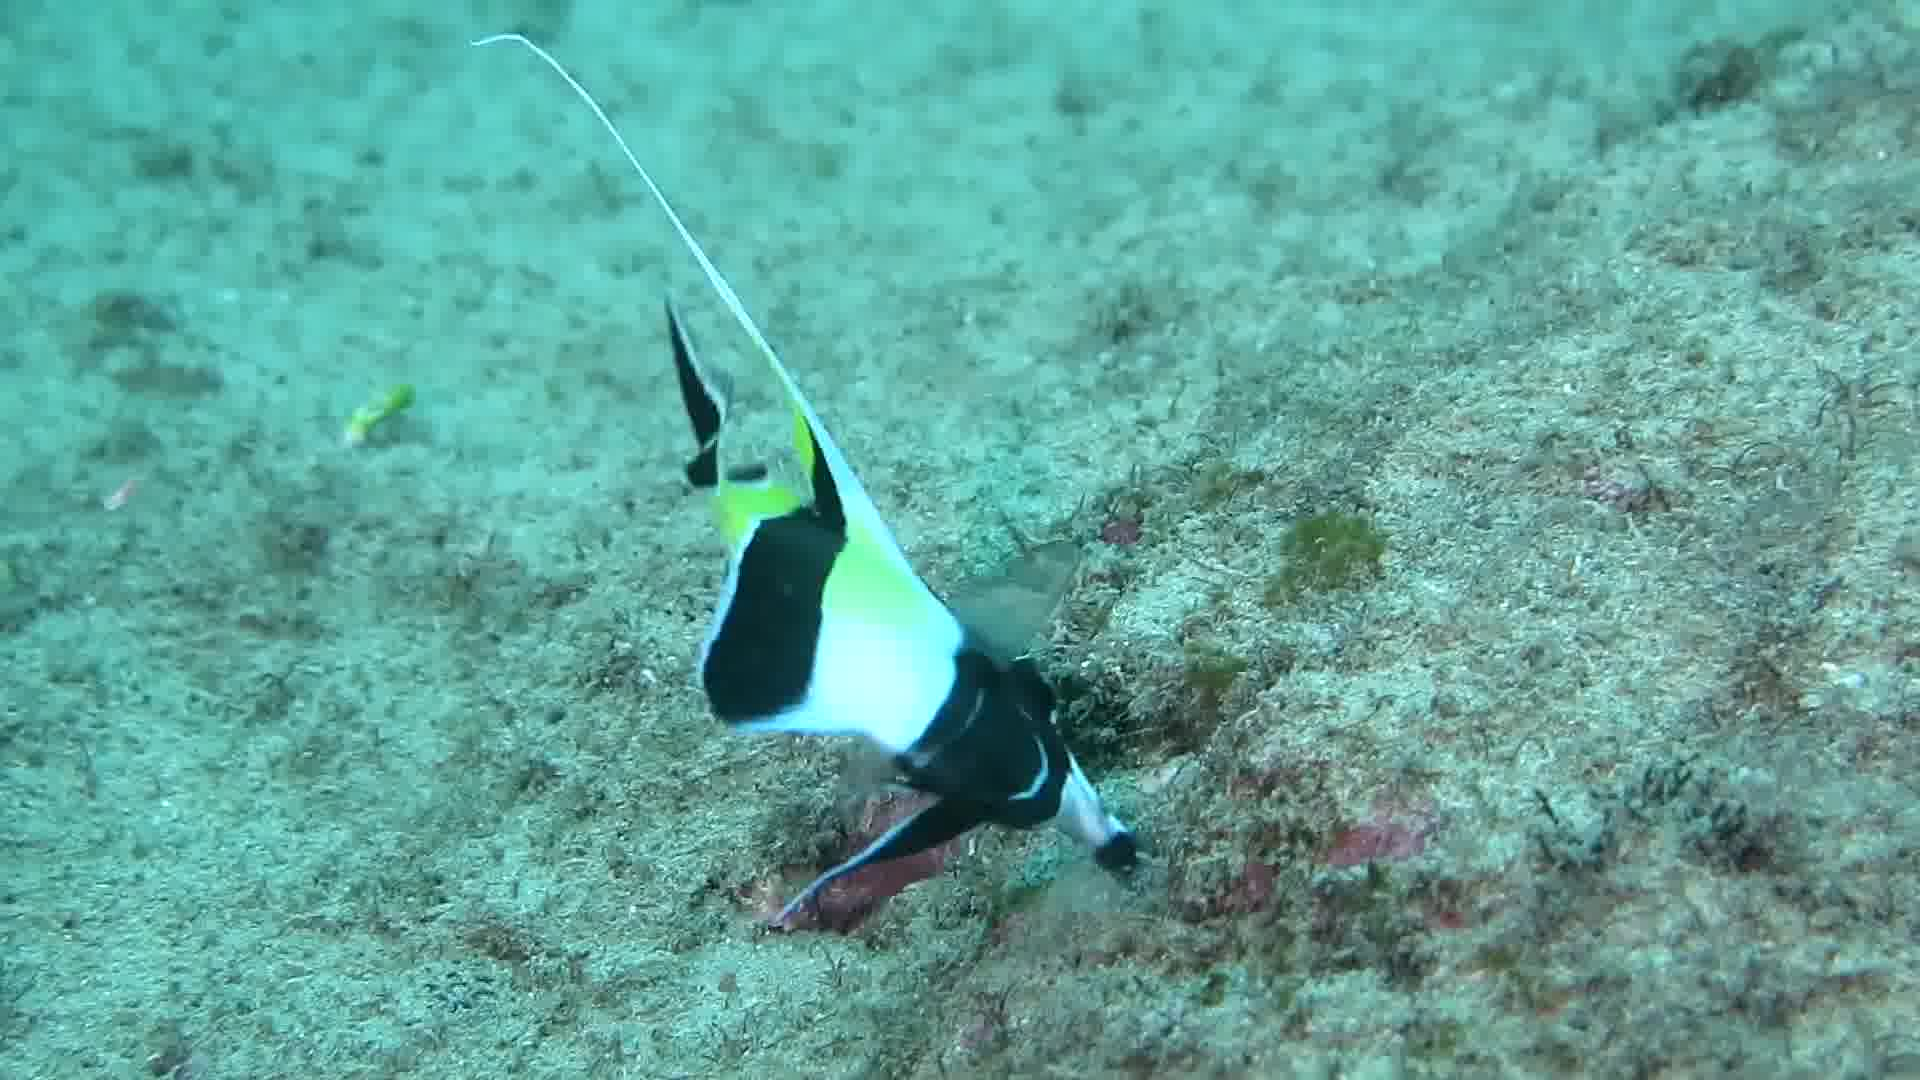Zanclus cornutus: (545, 225, 1313, 992)
